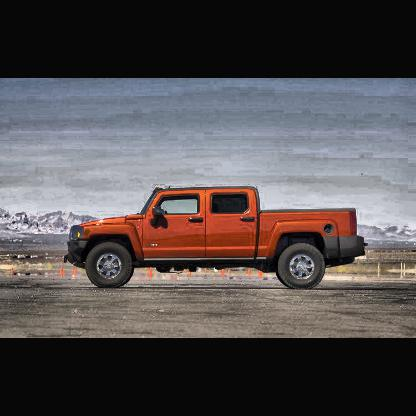HUMMER H3T Crew Cab 2010: (66, 187, 367, 290)
